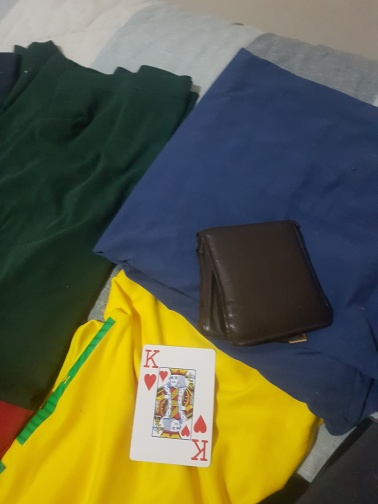king: (127, 344, 216, 468)
